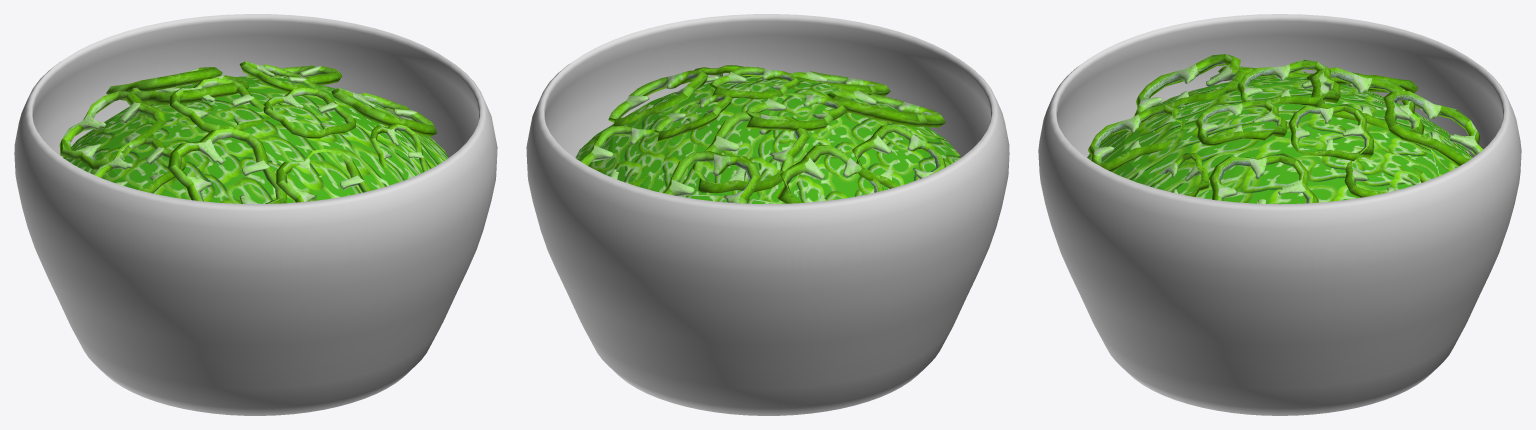
The model's file is pepper_bowl.fbx.
3 renders of one model, left to right at view 1: azimuth 30°, elevation 25°; view 2: azimuth 150°, elevation 25°; view 3: azimuth 270°, elevation 25°, orthographic.
Parts seen in each view (by area): view 1: Sphere, Sphere.001, pepper.001, pepper.004, pepper.002, pepper.008, pepper.010, pepper, pepper.007, pepper.006, pepper.009, pepper.011 (+2 smaller); view 2: Sphere, Sphere.001, pepper, pepper.001, pepper.002, pepper.009, pepper.010, pepper.006, pepper.004, pepper.008, pepper.011, pepper.003 (+1 smaller); view 3: Sphere, Sphere.001, pepper.009, pepper.001, pepper.007, pepper, pepper.010, pepper.002, pepper.008, pepper.011, pepper.005, pepper.003 (+1 smaller).
Part boxes in pixels (x1,y1,x2,y2): Sphere: (14, 14, 497, 415); Sphere.001: (63, 76, 448, 203); pepper.001: (168, 128, 286, 203); pepper.004: (59, 91, 166, 169); pepper.002: (331, 88, 436, 136); pepper.008: (263, 87, 356, 138); pepper.010: (169, 78, 270, 132); pepper: (130, 75, 249, 104); pepper.007: (276, 148, 372, 202); pepper.006: (94, 137, 186, 193); pepper.009: (106, 67, 222, 94); pepper.011: (239, 61, 319, 91); Sphere: (526, 14, 1009, 415); Sphere.001: (575, 76, 960, 203); pepper: (692, 112, 809, 193); pepper.001: (827, 90, 945, 127); pepper.002: (608, 70, 707, 126); pepper.009: (663, 151, 761, 203); pepper.010: (745, 92, 847, 131); pepper.006: (852, 124, 945, 188); pepper.004: (775, 145, 883, 203); pepper.008: (709, 66, 800, 99); pepper.011: (654, 94, 732, 142); pepper.003: (581, 126, 654, 186); Sphere: (1038, 14, 1521, 415); Sphere.001: (1087, 76, 1472, 204); pepper.009: (1383, 91, 1482, 166); pepper.001: (1134, 54, 1246, 119); pepper.007: (1088, 104, 1185, 171); pepper: (1309, 67, 1424, 134); pepper.010: (1237, 59, 1340, 106); pepper.002: (1209, 153, 1318, 203); pepper.008: (1195, 99, 1287, 145); pepper.011: (1288, 104, 1373, 161); pepper.005: (1152, 153, 1209, 196); pepper.003: (1344, 160, 1428, 197).
Bounding box in the file's own units: 39.86 × 23.44 × 39.86.
14 materials, 13 textured.
